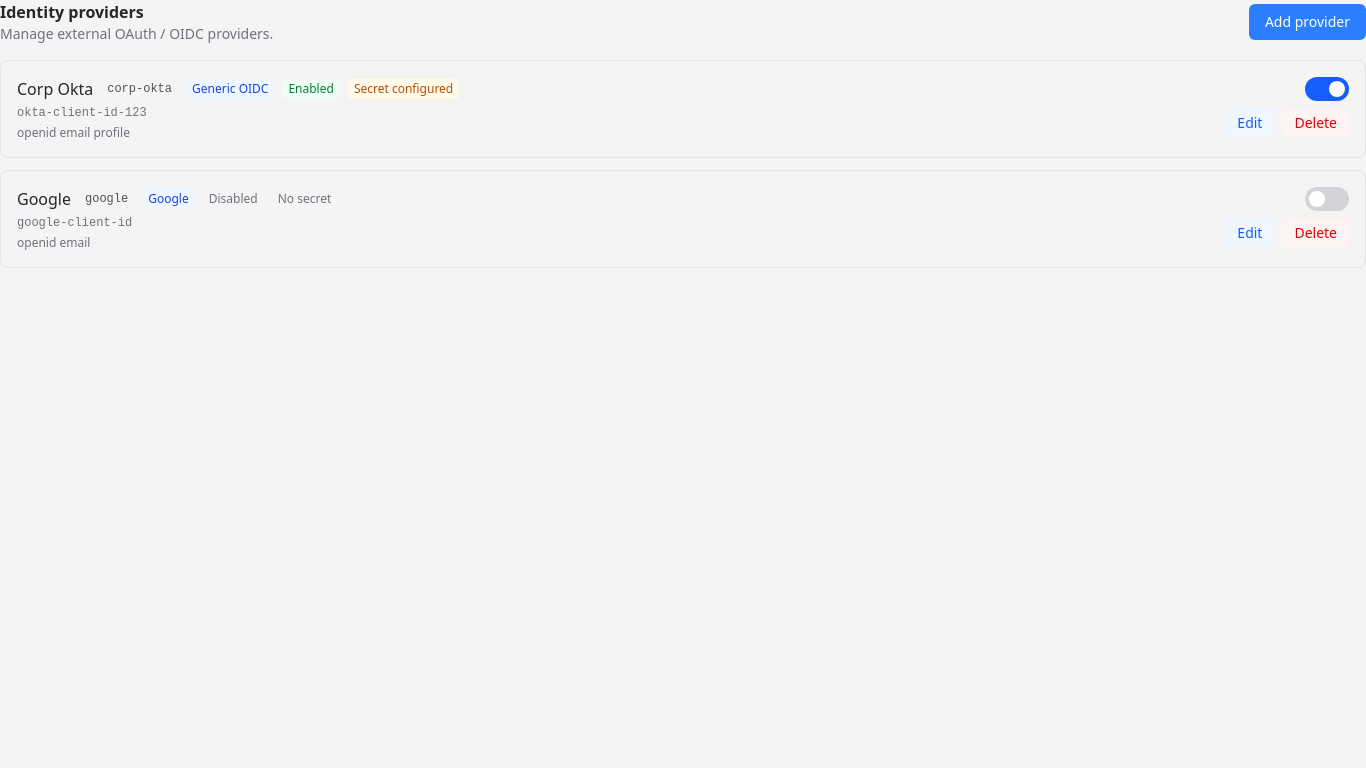
Test case: OAuthProvidersSettings › shows validation errors when creating without required fields
The width and height of the screenshot is (1366, 768).
Step 1. Click the button with test id "oauth-provider-add" → click(1307, 22), box [1249,4,1365,40]
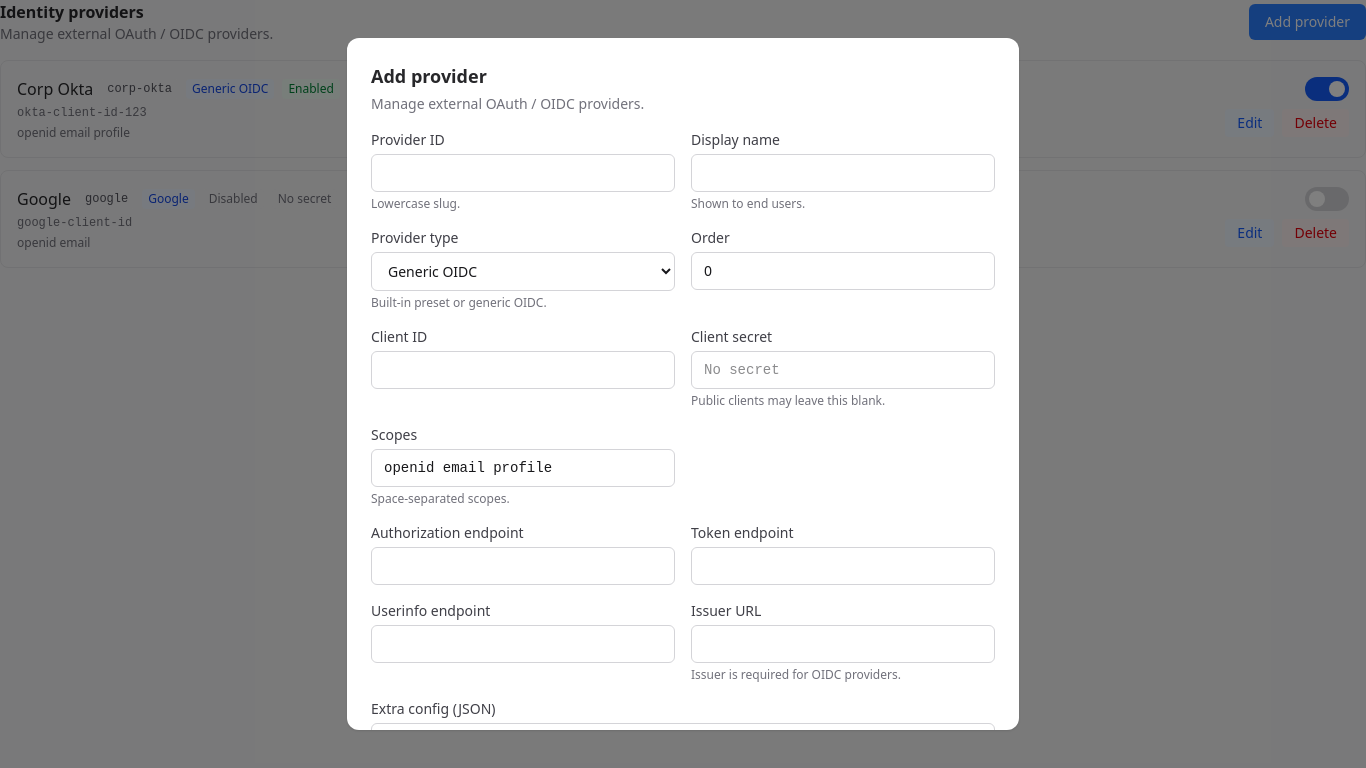
Step 2. Type "BAD ID" into the field with test id "oauth-provider-field-providerId" → (523, 173), box [371,154,675,192]
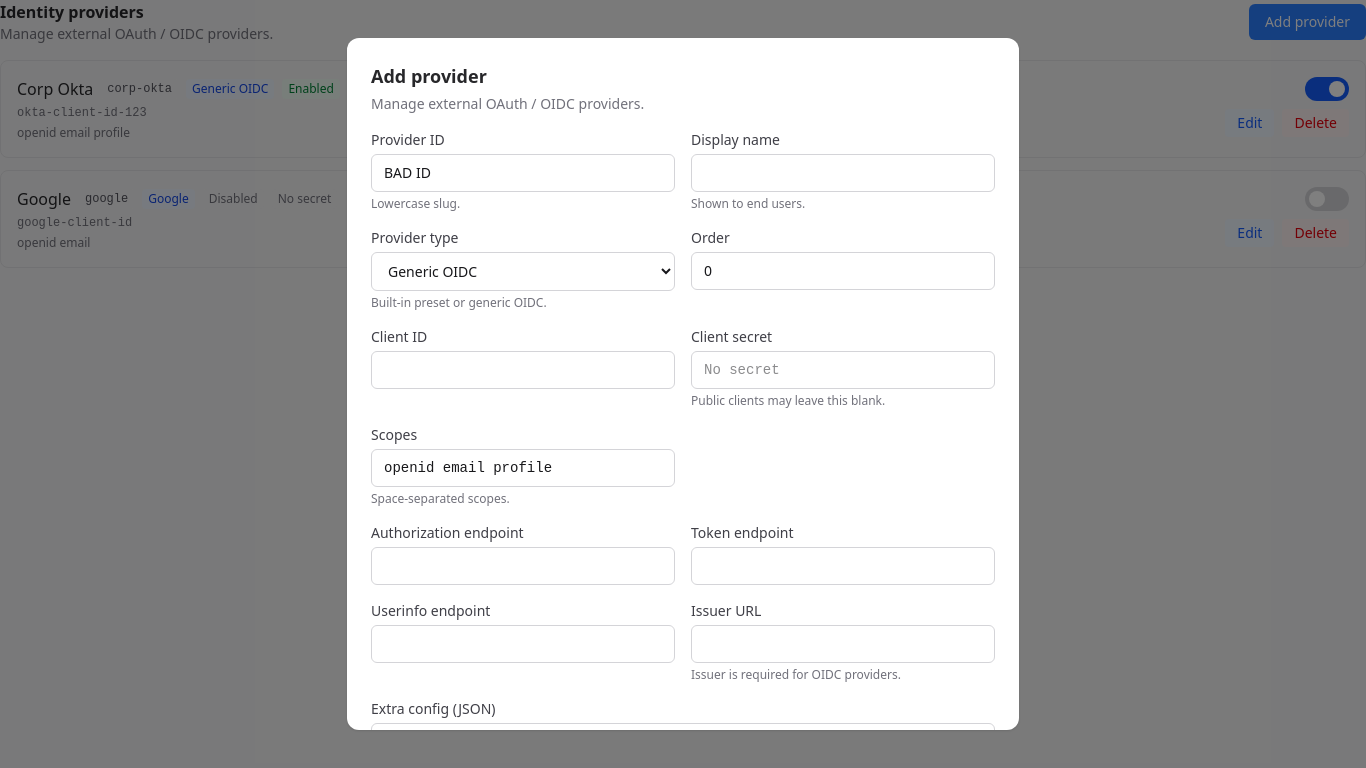
Step 3. Clear the field with test id "oauth-provider-field-clientId" → (523, 370), box [371,351,675,389]
(page scrolled)
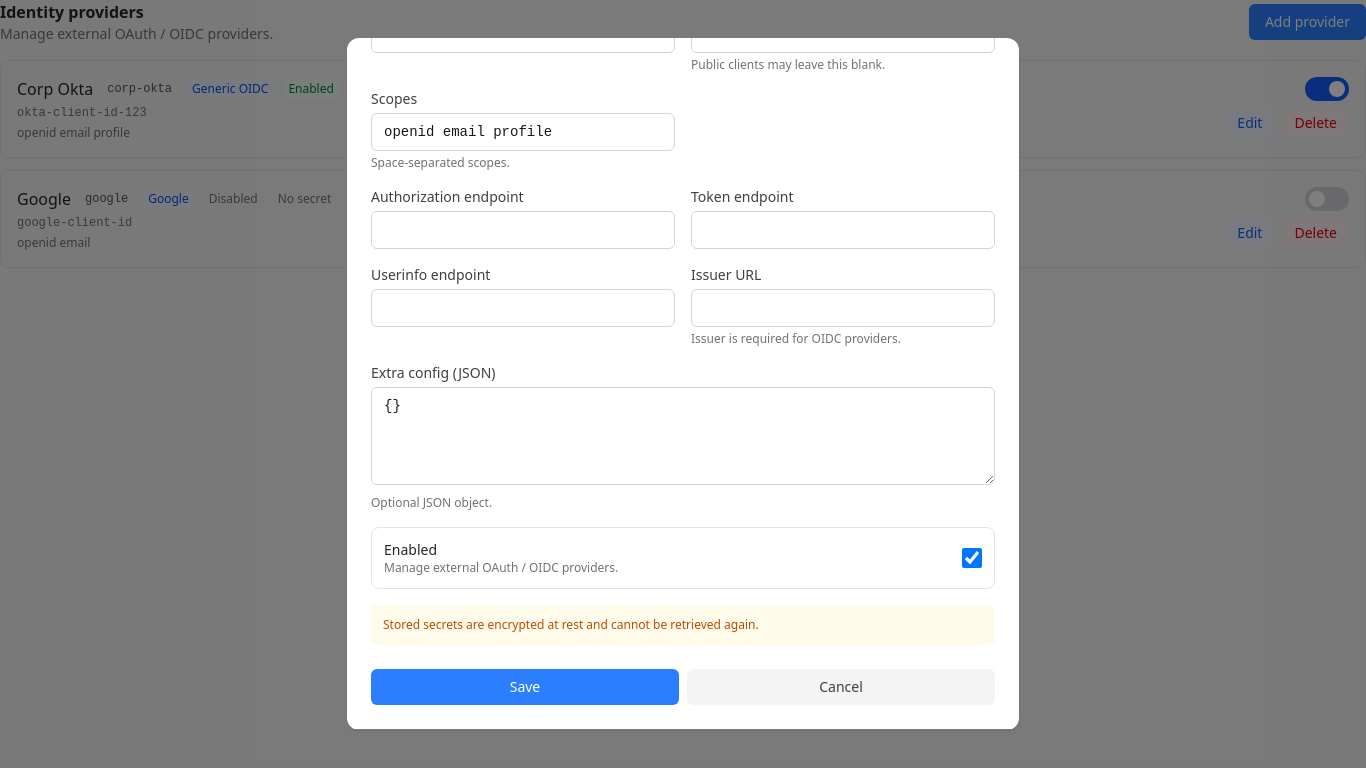
Step 4. Click the button with test id "oauth-provider-save" → click(525, 687), box [371,669,679,705]
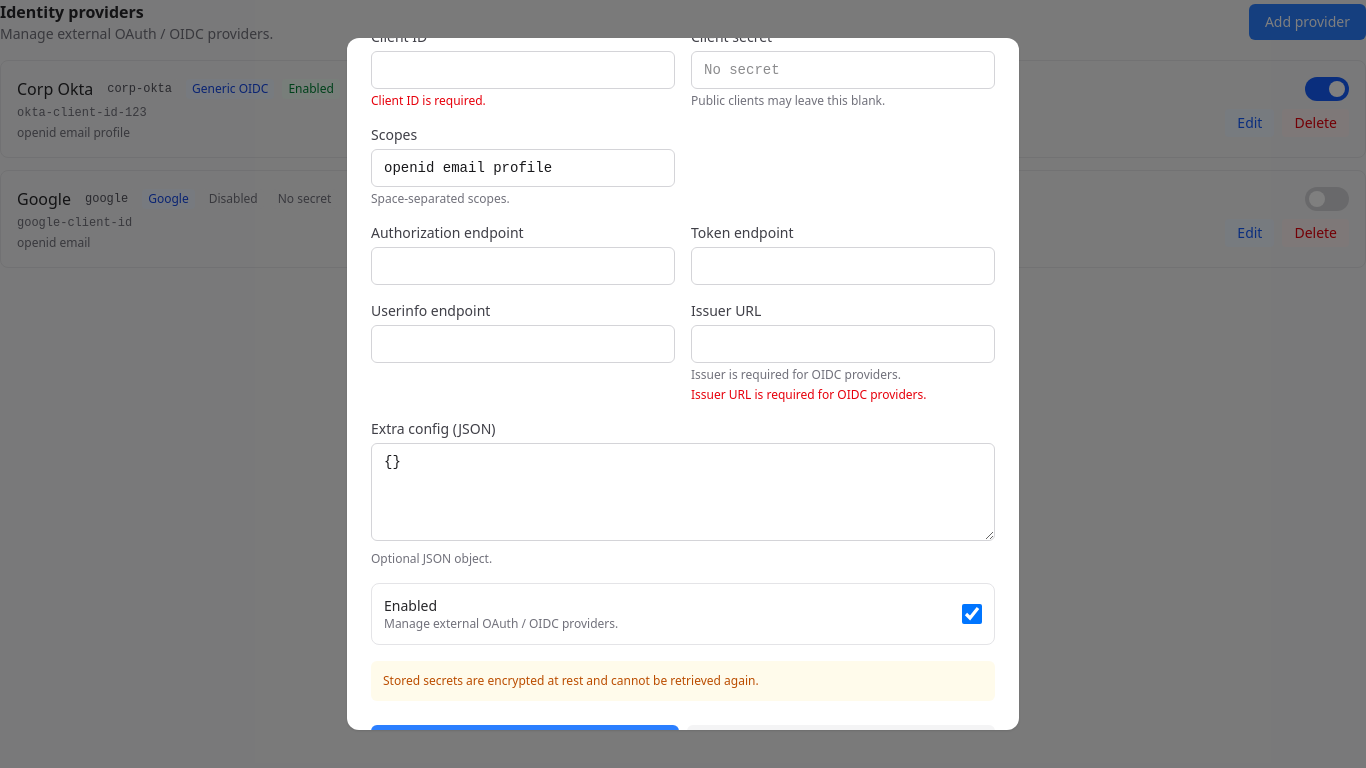
Result: the text "Client ID is required." is shown at [371,92,486,109]
